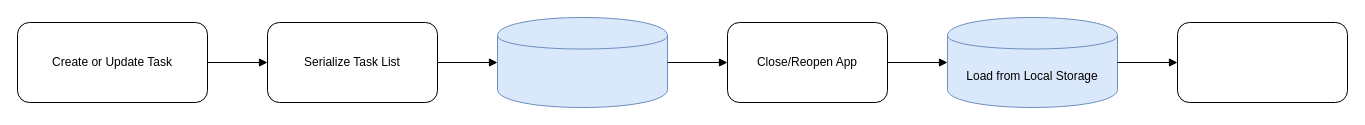
This 1365x125 diagram has some shape labels left out. Each missing label, with the centre of its shape:
Render Stored Tasks: the point at 1262,62
Write to Local Storage: the point at 582,62
